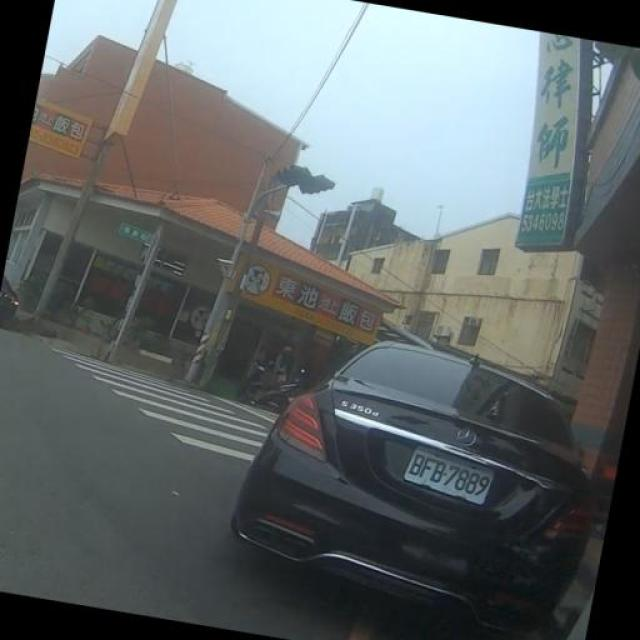illegalparking: (215, 276, 612, 630)
